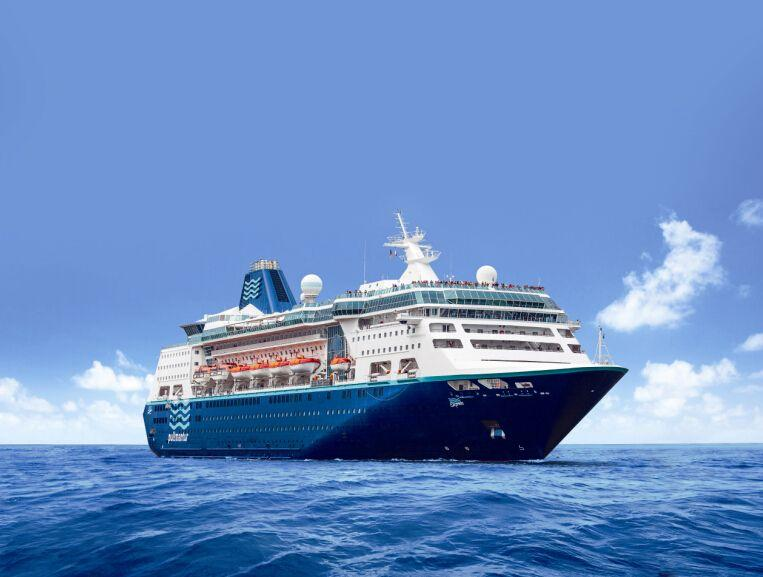youlun: (137, 211, 628, 456)
